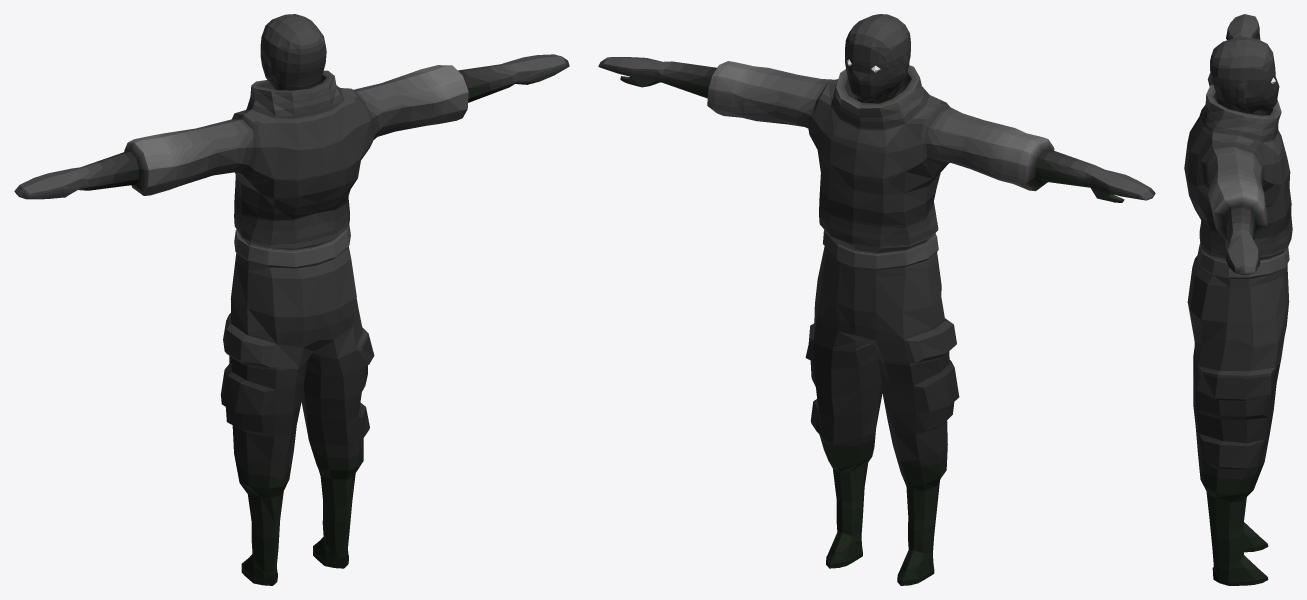
Rendered from CharSkyNPC_Body_AP07CargoPants_01.glb.
3 renders of one model, left to right at view 1: azimuth 30°, elevation 25°; view 2: azimuth 150°, elevation 25°; view 3: azimuth 270°, elevation 25°, orthographic. The views are drawn at different scales.
Parts seen in each view (by area): view 1: CharSkyNPC_Body_AP07CargoPants_01; view 2: CharSkyNPC_Body_AP07CargoPants_01; view 3: CharSkyNPC_Body_AP07CargoPants_01.
Part boxes in pixels (x1=…): CharSkyNPC_Body_AP07CargoPants_01: x1=14, y1=14, x2=569, y2=585; CharSkyNPC_Body_AP07CargoPants_01: x1=598, y1=14, x2=1155, y2=585; CharSkyNPC_Body_AP07CargoPants_01: x1=1184, y1=14, x2=1292, y2=585.
Size of the model in its own units: 14.33 by 13.62 by 2.55.
Materials: 1 (1 with a texture image).
